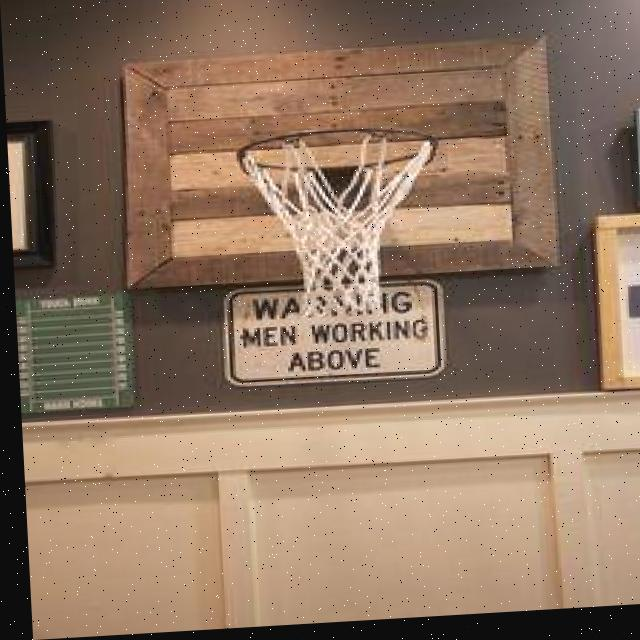hoop: (236, 122, 448, 322)
